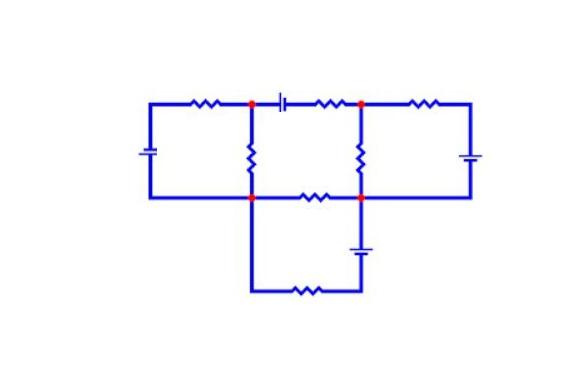resistor: (172, 81, 234, 120), (405, 80, 465, 116), (274, 272, 329, 299), (286, 180, 339, 208), (235, 133, 260, 174)
